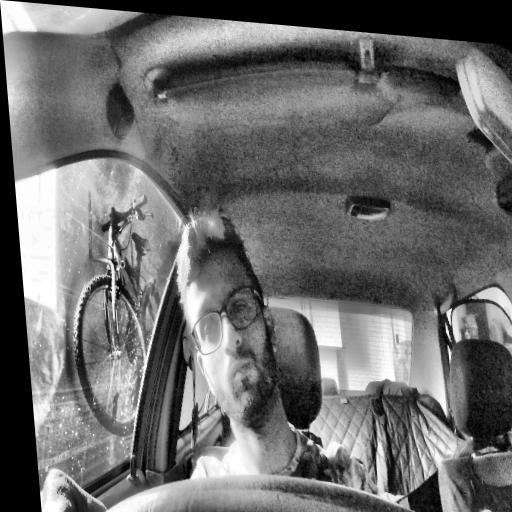awake: (172, 209, 285, 434)
